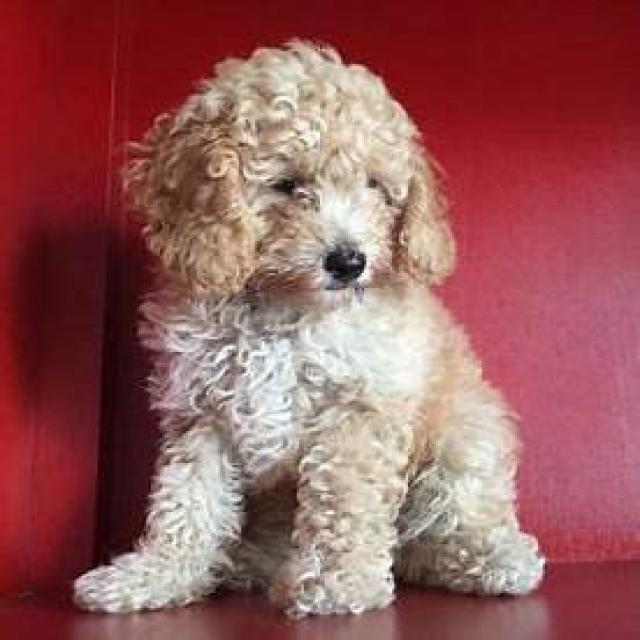dog: (75, 41, 543, 616)
